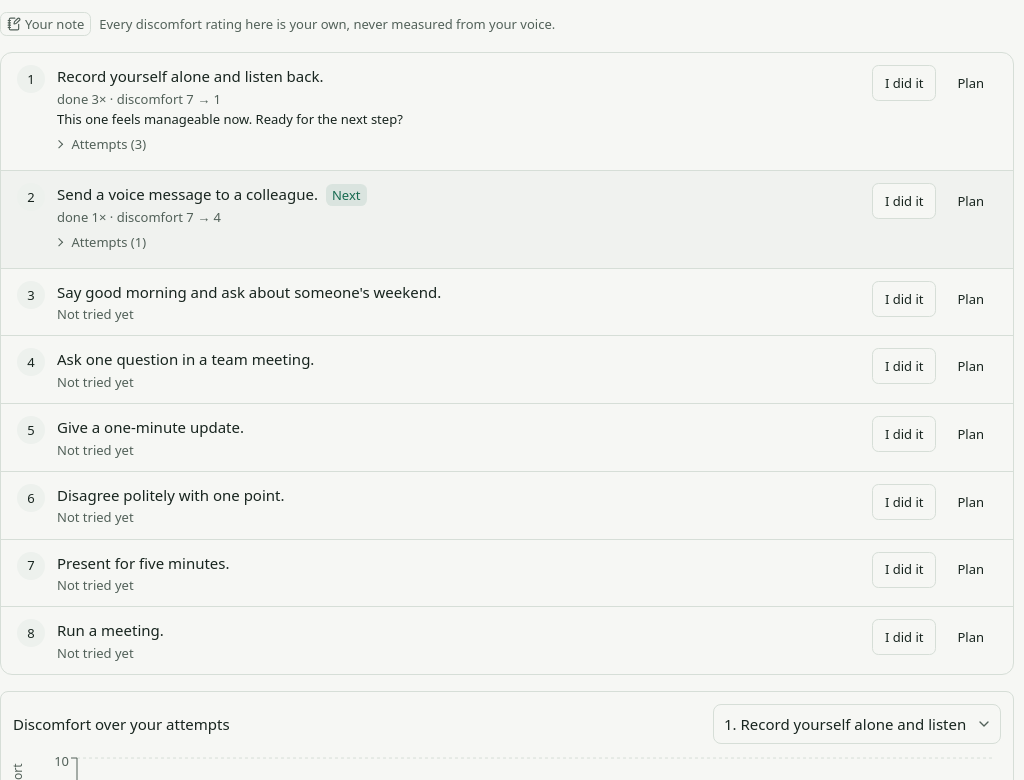
Scenario: correcting the ladder › removes a mistaken attempt after asking, and keeps what you earned
Click the heading "Attempts (3)".
click(102, 144)  # box [57,130,146,158]
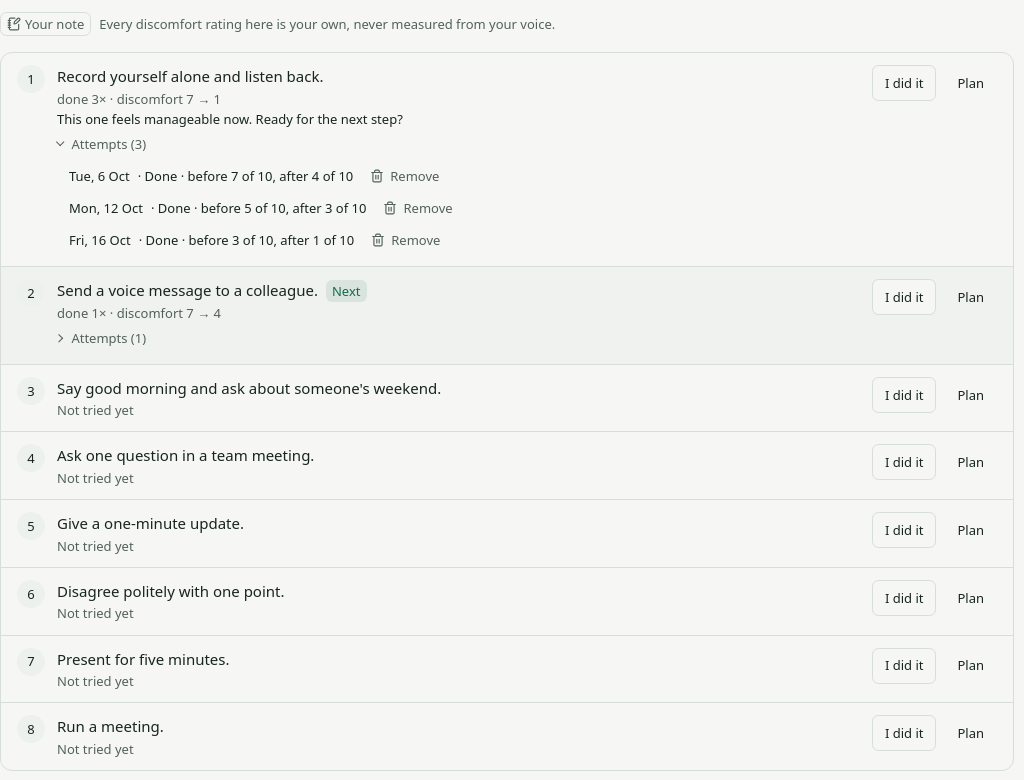
Click the button with aria-label "Remove the attempt of".
click(405, 176)  # box [361,162,448,190]
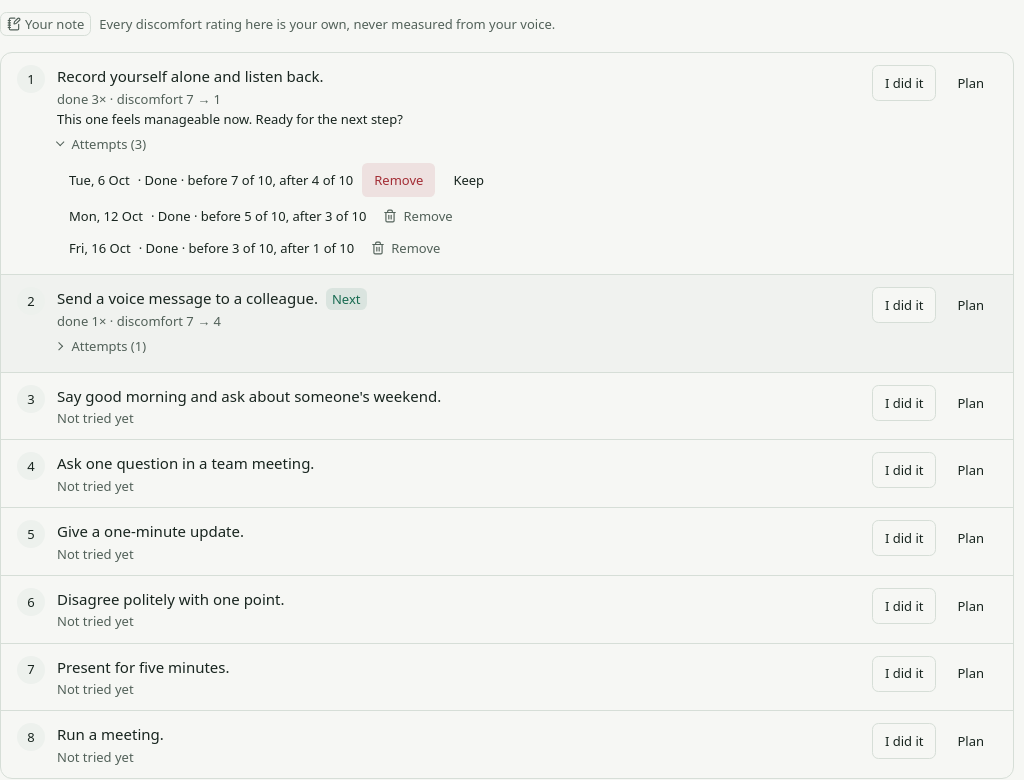
Click the button "Remove" next to "· before 7 of 10, after 4 of 10".
click(399, 180)  # box [361,162,436,198]
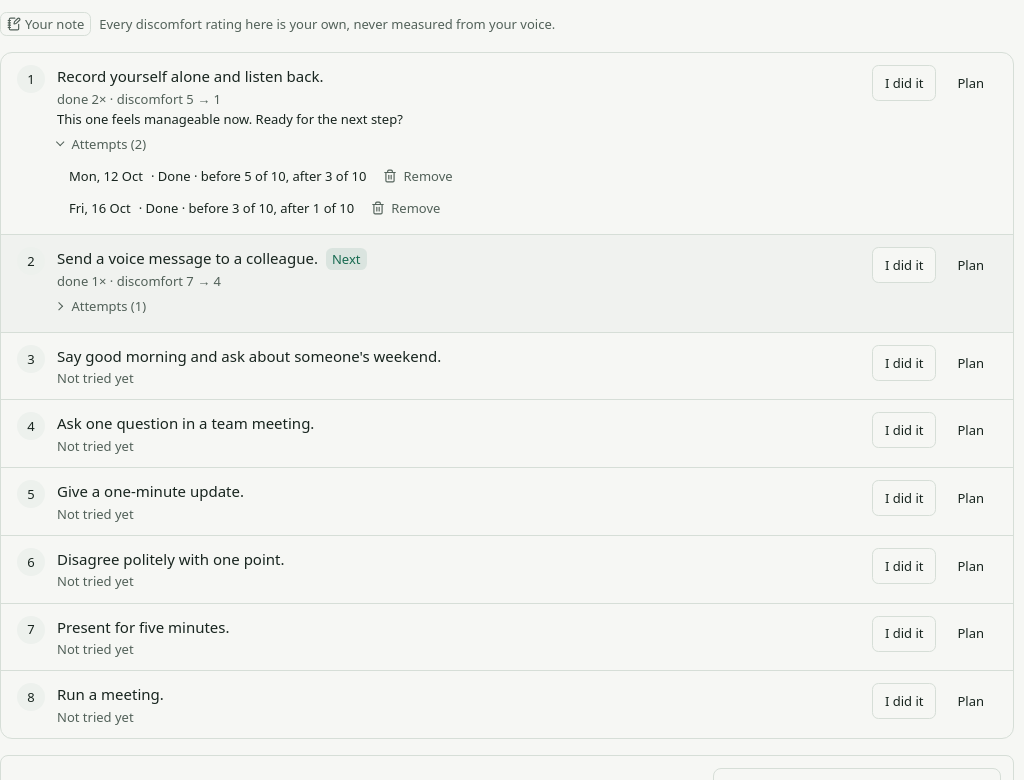
expect the heading "Attempts (2)" is shown: met, box [57,130,146,158]
